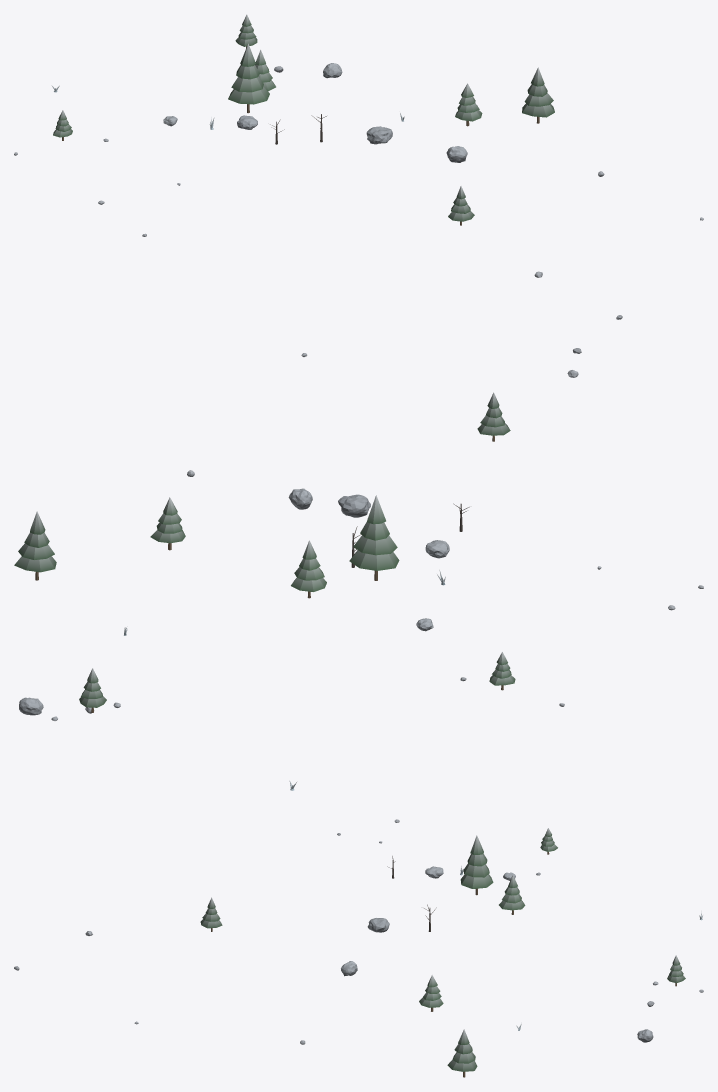
Rendered from frost_land_scatter_c21_12.glb.
3 views of the same model, one above another, from view 1: azimuth 30°, elevation 25°; view 2: azimuth 150°, elevation 25°; view 3: azimuth 270°, elevation 25° (orthographic). The views are drawn at different scales.
Visible parts, largest first — view 1: frost_land_scatter_c21_12; view 2: frost_land_scatter_c21_12; view 3: frost_land_scatter_c21_12.
Part boxes in pixels (<box>): frost_land_scatter_c21_12: <box>14,14,703,319</box>; frost_land_scatter_c21_12: <box>14,348,703,790</box>; frost_land_scatter_c21_12: <box>14,819,703,1077</box>.
Bounding box in the file's own units: 121 × 35.31 × 171.
